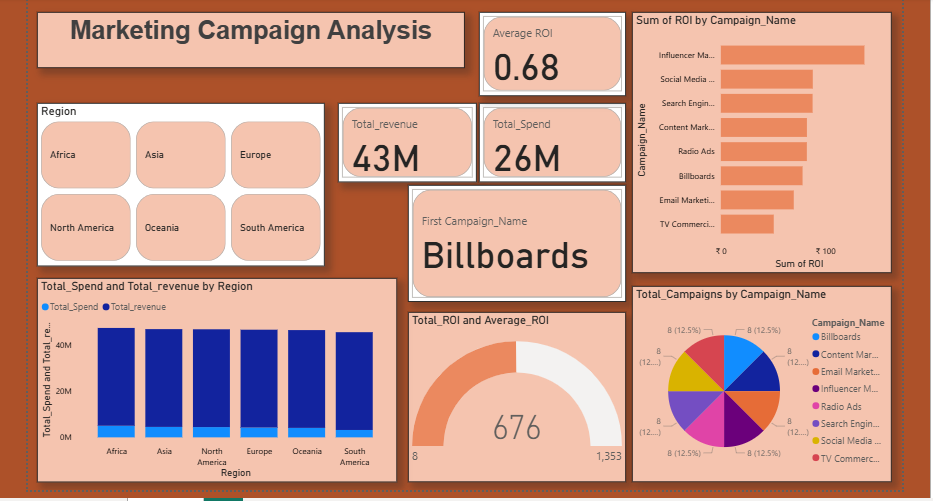

What the dashboard file says about the page in this screenshot:
{"tool":"powerbi","page":{"name":"Page 1","canvas":[1280,720],"ordinal":0},"visuals":[{"type":"cardVisual","fields":{"Data":["marketing campaign details.Total_revenue"]},"box":[453.7,153.7,203.4,115.6],"z":0},{"type":"cardVisual","fields":{"Data":["marketing campaign details.Total_Spend"]},"box":[660,153.7,215.1,115.6],"z":1},{"type":"cardVisual","fields":{"Data":["marketing campaign details.Average ROI"]},"box":[660,20.5,215.1,122.9],"z":2},{"type":"cardVisual","fields":{"Data":["Min(marketing campaign performance.Campaign_Name)"]},"box":[556.1,273.7,319,171.2],"z":3},{"type":"gauge","fields":{"Y":["Sum(marketing campaign performance.ROI)"],"MinValue":["CountNonNull(marketing campaign details.Average_ROI)"]},"box":[556.1,459.5,319,248.8],"z":5},{"type":"pieChart","fields":{"Y":["CountNonNull(marketing campaign details.Total_Campaigns)"],"Category":["marketing campaign performance.Campaign_Name"]},"box":[883.9,421.5,380.5,286.8],"z":6},{"type":"barChart","fields":{"Y":["Sum(marketing campaign performance.ROI)"],"Category":["marketing campaign performance.Campaign_Name"]},"box":[883.9,20.5,380.5,382],"z":7},{"type":"advancedSlicerVisual","fields":{"Values":["marketing campaign performance.Region"]},"box":[13.2,153.7,421.5,238.5],"z":8},{"type":"columnChart","fields":{"Y":["marketing campaign details.Total_Spend","marketing campaign details.Total_revenue"],"Category":["marketing campaign performance.Region"]},"box":[13.2,409.8,526.8,298.5],"z":9},{"type":"textbox","box":[13.2,20.5,626.3,82],"z":10}]}

Visuals, with their boxes in screenshot pixels (x1, y1, x2, y2):
cardVisual - marketing campaign details.Total_revenue: bbox(335, 101, 475, 180)
cardVisual - marketing campaign details.Total_Spend: bbox(477, 101, 624, 180)
cardVisual - marketing campaign details.Average ROI: bbox(477, 9, 624, 93)
cardVisual - Min(marketing campaign performance.Campaign_Name): bbox(406, 183, 624, 300)
gauge - Sum(marketing campaign performance.ROI) x CountNonNull(marketing campaign details.Average_ROI): bbox(406, 310, 624, 481)
pieChart - CountNonNull(marketing campaign details.Total_Campaigns) x marketing campaign performance.Campaign_Name: bbox(630, 284, 891, 481)
barChart - Sum(marketing campaign performance.ROI) x marketing campaign performance.Campaign_Name: bbox(630, 9, 891, 271)
advancedSlicerVisual - marketing campaign performance.Region: bbox(33, 101, 322, 264)
columnChart - marketing campaign details.Total_Spend x marketing campaign details.Total_revenue: bbox(33, 276, 394, 481)
textbox: bbox(33, 9, 463, 65)
